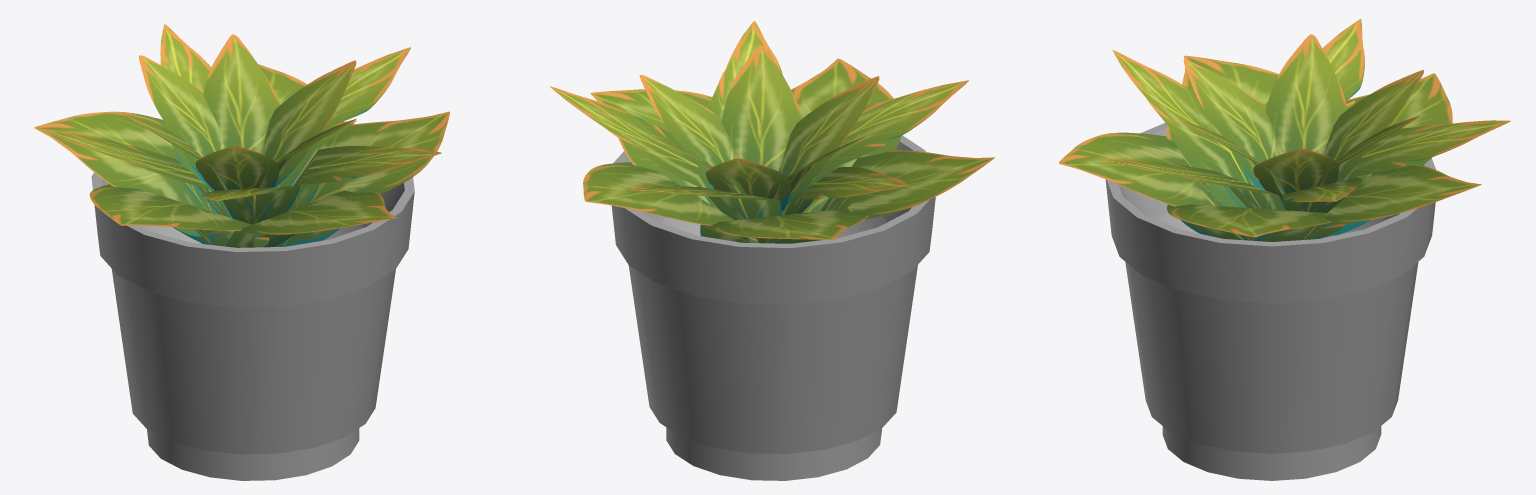
The model's file is PottedPlant.fbx.
3 views of the same model, side by side, from view 1: azimuth 30°, elevation 25°; view 2: azimuth 150°, elevation 25°; view 3: azimuth 270°, elevation 25° (orthographic). The views are drawn at different scales.
Visible parts, largest first — view 1: Pot, Plant15; view 2: Pot, Plant15; view 3: Pot, Plant15.
Part boxes in pixels (bbox=[...]): Pot: bbox=[91, 172, 414, 480]; Plant15: bbox=[34, 24, 449, 247]; Pot: bbox=[611, 135, 935, 480]; Plant15: bbox=[550, 21, 994, 243]; Pot: bbox=[1105, 123, 1435, 480]; Plant15: bbox=[1058, 19, 1510, 241].
Size of the model in its own units: 22.6 by 17.43 by 22.39.
